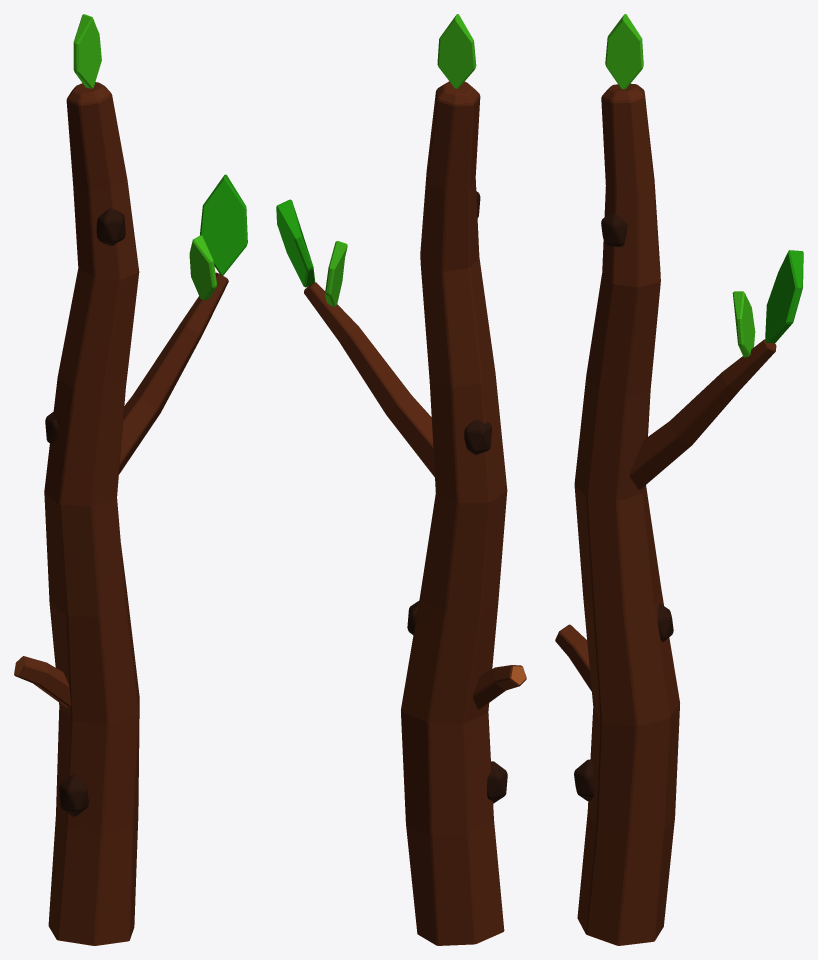
File: myw_stick.obj
The picture shows the model from 3 angles, left to right: view 1: azimuth 30°, elevation 25°; view 2: azimuth 150°, elevation 25°; view 3: azimuth 330°, elevation 25°; orthographic projection.
Visible parts, largest first — view 1: Stick, Leaf_Twig, Leaf_Top, Leaf_Twig2; view 2: Stick, Leaf_Top, Leaf_Twig, Leaf_Twig2; view 3: Stick, Leaf_Twig, Leaf_Top, Leaf_Twig2.
Part boxes in pixels (x1,y1,x2,y2): Stick: [14, 82, 228, 945]; Leaf_Twig: [200, 174, 247, 275]; Leaf_Top: [73, 14, 101, 88]; Leaf_Twig2: [189, 235, 216, 300]; Stick: [304, 81, 526, 945]; Leaf_Top: [437, 14, 476, 88]; Leaf_Twig: [276, 199, 315, 287]; Leaf_Twig2: [325, 241, 347, 306]; Stick: [555, 83, 776, 945]; Leaf_Twig: [765, 250, 803, 343]; Leaf_Top: [605, 14, 643, 89]; Leaf_Twig2: [732, 291, 755, 357].
Size of the model in its own units: 1.01 by 3.72 by 0.3446.
